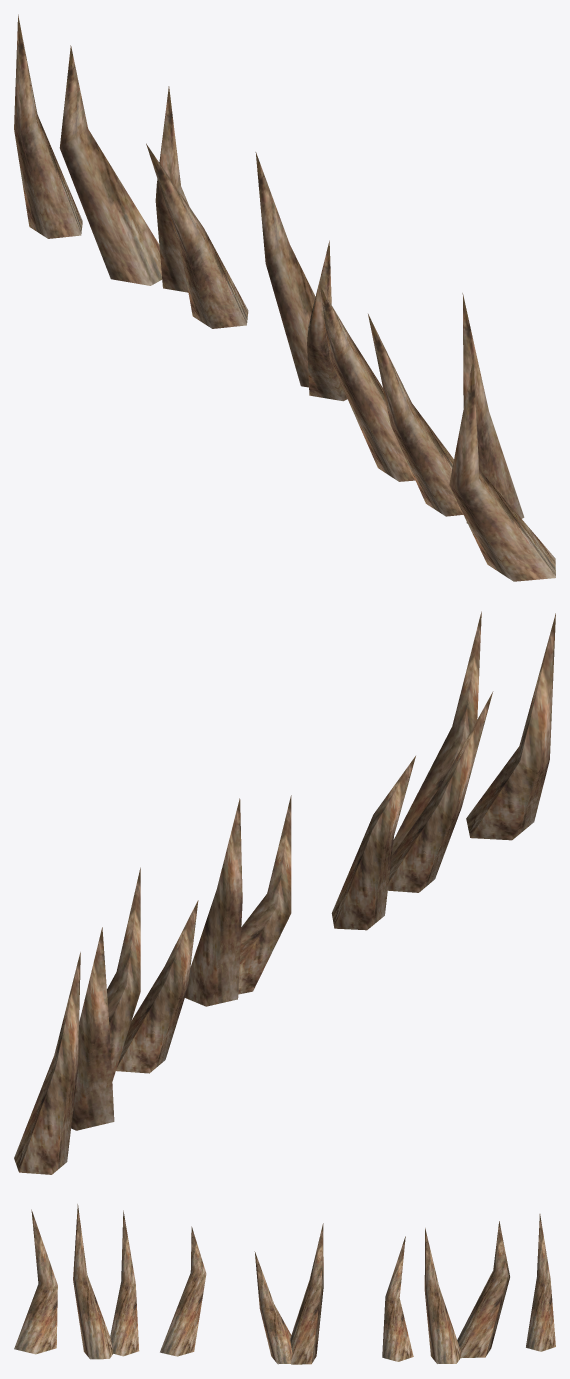
The model's file is hrz103.glb.
3 views of the same model, one above another, from view 1: azimuth 30°, elevation 25°; view 2: azimuth 150°, elevation 25°; view 3: azimuth 270°, elevation 25° (orthographic). The views are drawn at different scales.
Parts seen in each view (by area): view 1: hrz103-col; view 2: hrz103-col; view 3: hrz103-col.
Boxes of the visible parts, <box> form: hrz103-col: <box>14,14,555,581</box>; hrz103-col: <box>14,611,555,1174</box>; hrz103-col: <box>14,1204,555,1364</box>.
Size of the model in its own units: 7.67 by 12.93 by 46.15.
1 material, 1 textured.
